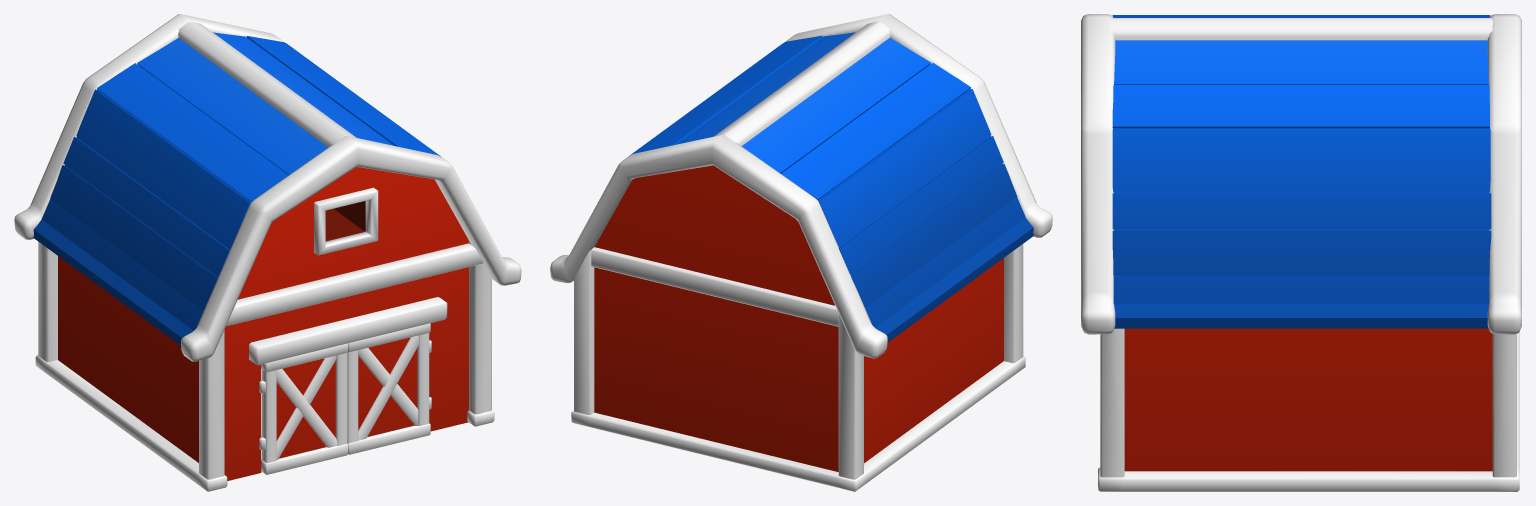
Rendered from Farm_House_Barn_01.fbx.
3 views of the same model, side by side, from view 1: azimuth 30°, elevation 25°; view 2: azimuth 150°, elevation 25°; view 3: azimuth 270°, elevation 25° (orthographic). The views are drawn at different scales.
Parts seen in each view (by area): view 1: Farm_House_Barn_01, House_Farm_Barn_01_Door_A, House_Farm_Barn_01_Door_B; view 2: Farm_House_Barn_01; view 3: Farm_House_Barn_01.
Part boxes in pixels (box(x1,y1,x2,y2)): Farm_House_Barn_01: box(14, 14, 521, 491); House_Farm_Barn_01_Door_A: box(259, 343, 348, 474); House_Farm_Barn_01_Door_B: box(347, 323, 431, 454); Farm_House_Barn_01: box(550, 14, 1052, 491); Farm_House_Barn_01: box(1081, 14, 1521, 491).
Bounding box in the file's own units: 779 × 716 × 734.
